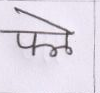o_matra: (60, 23, 73, 55)
